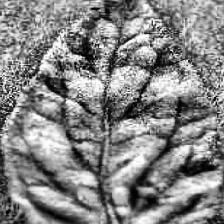leaf mold: (5, 0, 222, 224)
